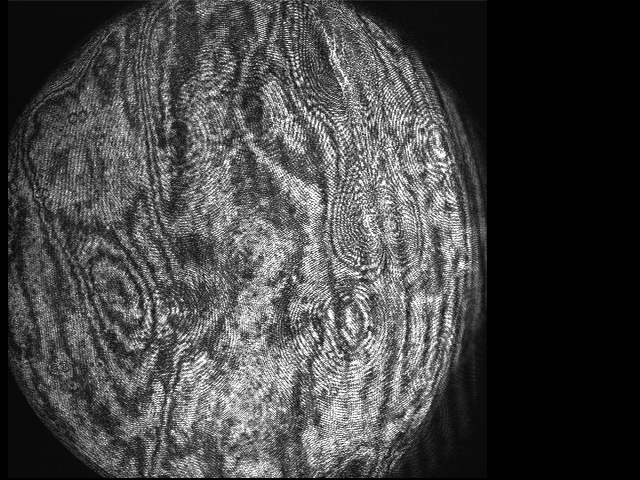plume: (332, 178, 421, 281)
